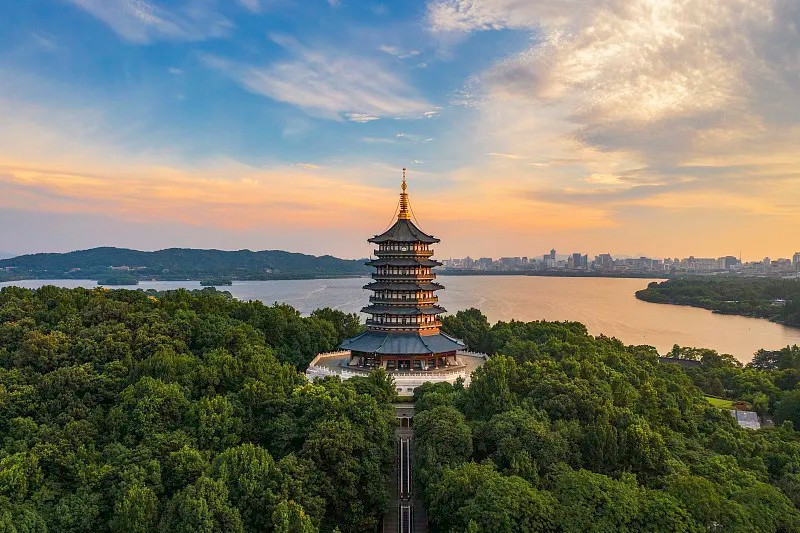Leifeng: (338, 166, 468, 378)
